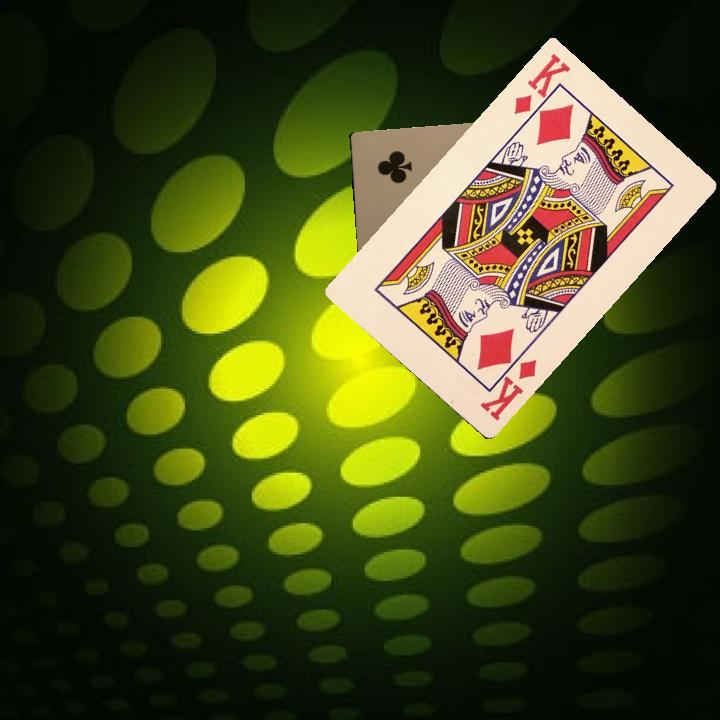Kd: (509, 48, 573, 131), (476, 347, 539, 424)
